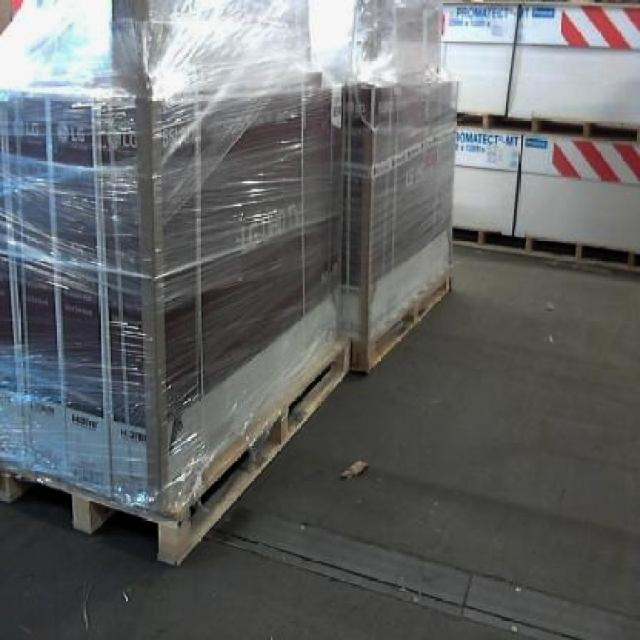floor: (0, 245, 637, 637)
pallets: (0, 0, 452, 562)
